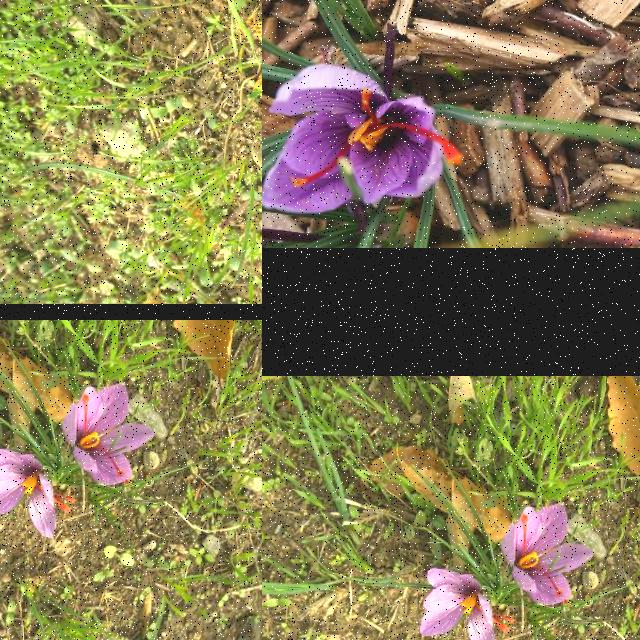flower: (262, 64, 466, 214), (65, 382, 155, 486), (504, 502, 594, 606), (0, 448, 74, 539), (420, 568, 513, 640)
